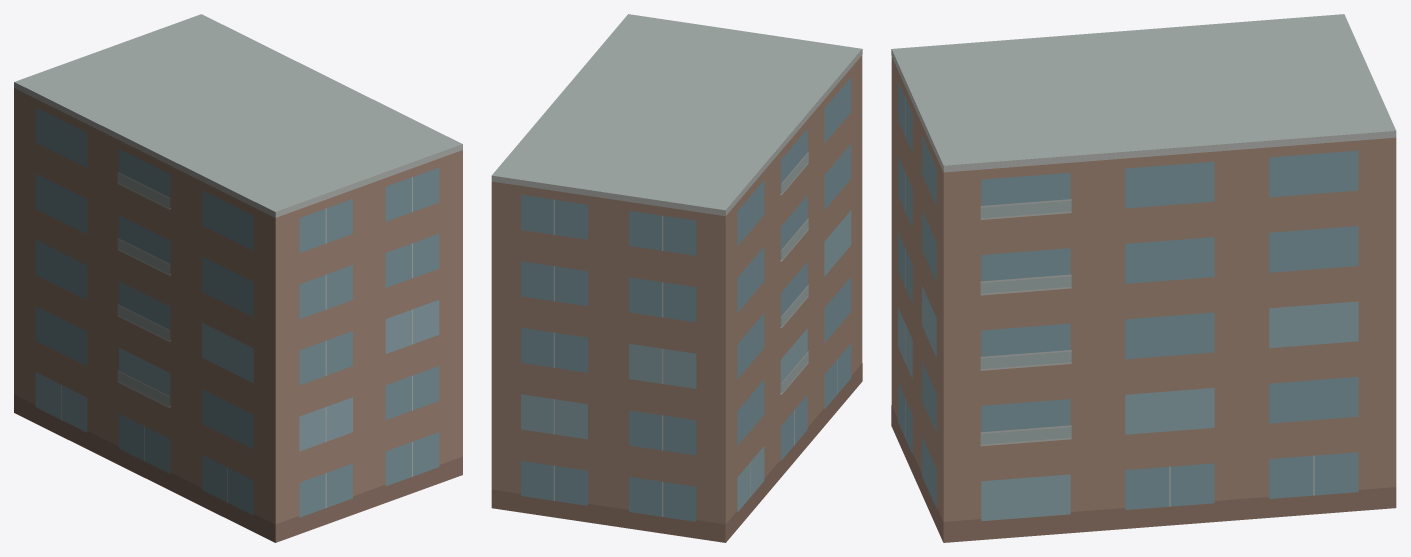
File: survey-upis-32884540.glb
3 views of the same model, side by side, from view 1: azimuth 30°, elevation 25°; view 2: azimuth 150°, elevation 25°; view 3: azimuth 270°, elevation 25° (orthographic). The views are drawn at different scales.
Parts seen in each view (by area): view 1: survey-upis-32884540.tmp; view 2: survey-upis-32884540.tmp; view 3: survey-upis-32884540.tmp.
Boxes of the visible parts, x1,y1,x2,y2 form: survey-upis-32884540.tmp: (14, 14, 462, 542); survey-upis-32884540.tmp: (491, 14, 862, 542); survey-upis-32884540.tmp: (891, 14, 1396, 542).
Bounding box in the file's own units: 11.84 × 13.7 × 16.63.
